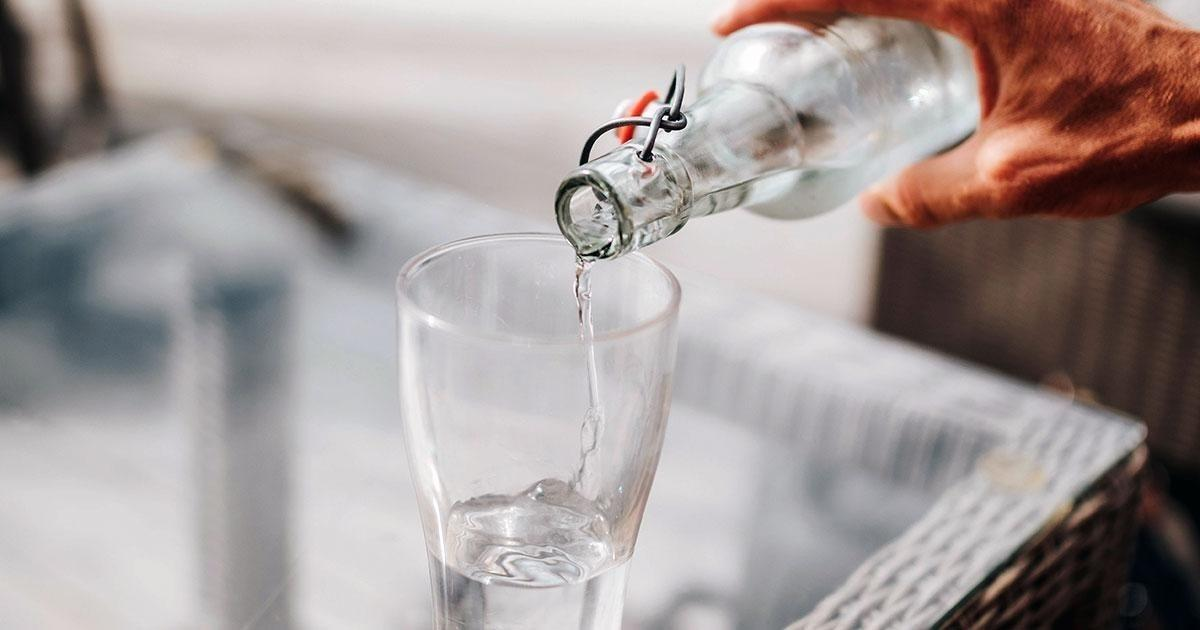bottle-glass: (548, 10, 984, 262)
glass-normal: (393, 231, 684, 629)
